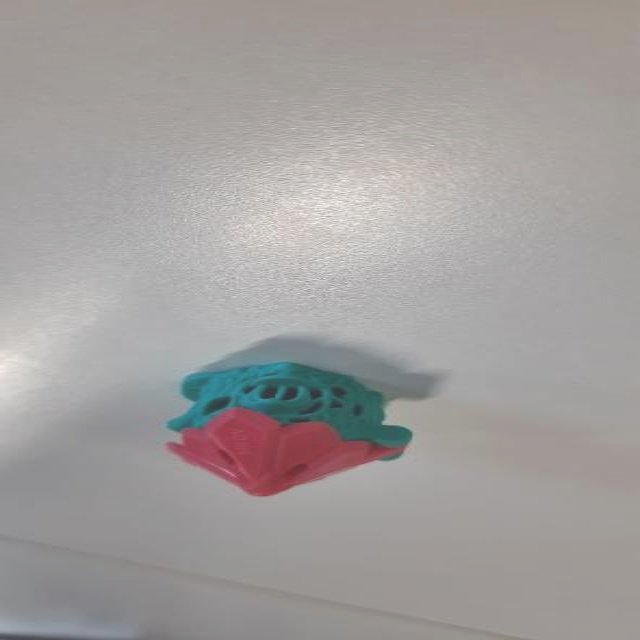House: (156, 331, 464, 507)
